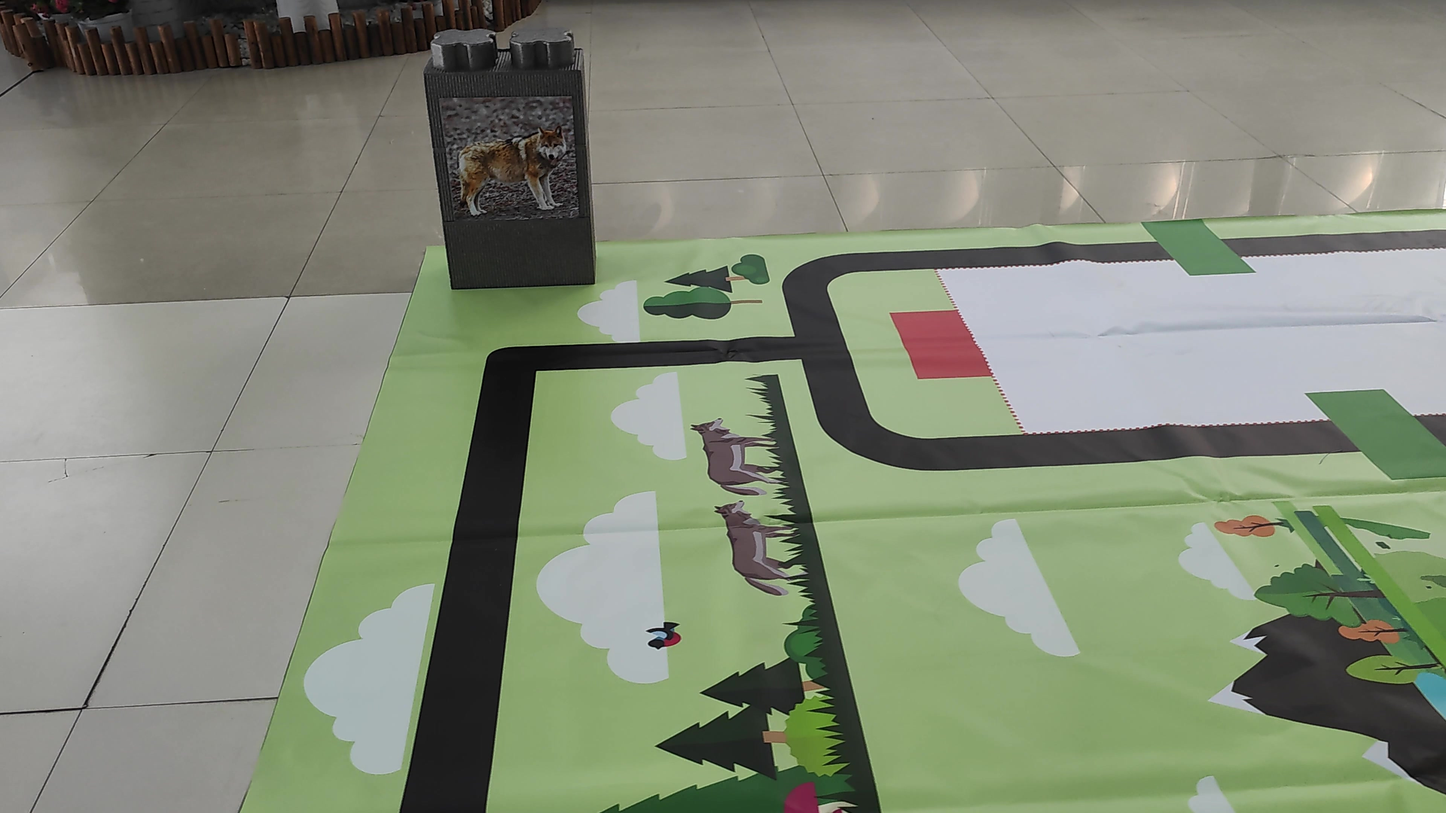wolf: (439, 118, 567, 222)
